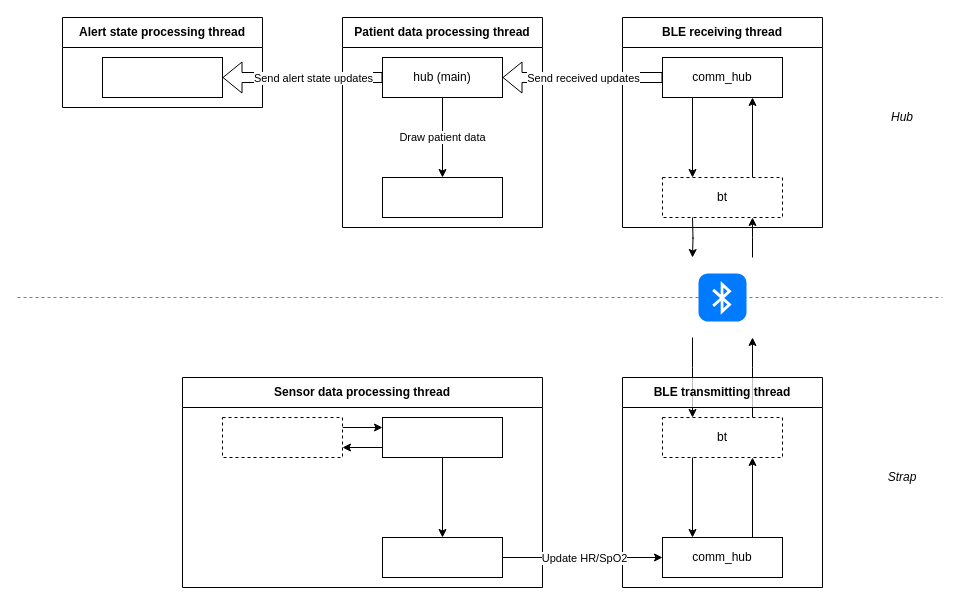
Some shapes in this 961 by 605 pixel diagram are drawn without their labels. Each missing label, with the centre of its shape:
"alert" belongs at [162,77].
"arduinoFFT" belongs at [282,437].
"max30102" belongs at [442,437].
"monitor" belongs at [442,197].
"strap (main)" belongs at [442,557].
